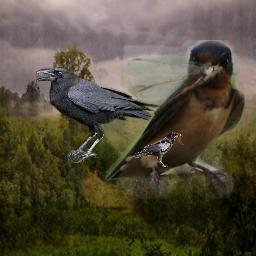Crow: (36, 67, 165, 163), (132, 131, 186, 167)
Swallow: (105, 40, 245, 199)
